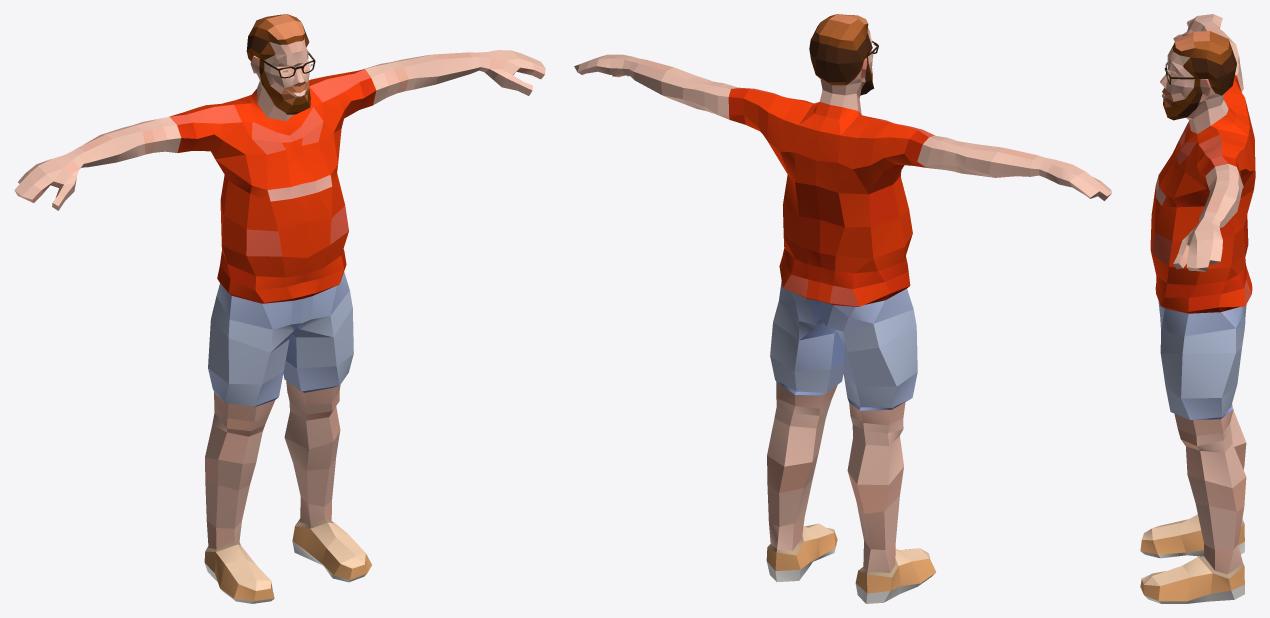
File: casual_Male_K-model.obj
The picture shows the model from 3 angles, left to right: view 1: azimuth 30°, elevation 25°; view 2: azimuth 150°, elevation 25°; view 3: azimuth 270°, elevation 25°; orthographic projection. The views are drawn at different scales.
Parts seen in each view (by area): view 1: casual_Male_K; view 2: casual_Male_K; view 3: casual_Male_K.
Boxes of the visible parts, x1=… form: casual_Male_K: x1=14, y1=14, x2=545, y2=603; casual_Male_K: x1=574, y1=14, x2=1111, y2=603; casual_Male_K: x1=1140, y1=14, x2=1255, y2=603.
Size of the model in its own units: 168 by 168 by 32.68.
